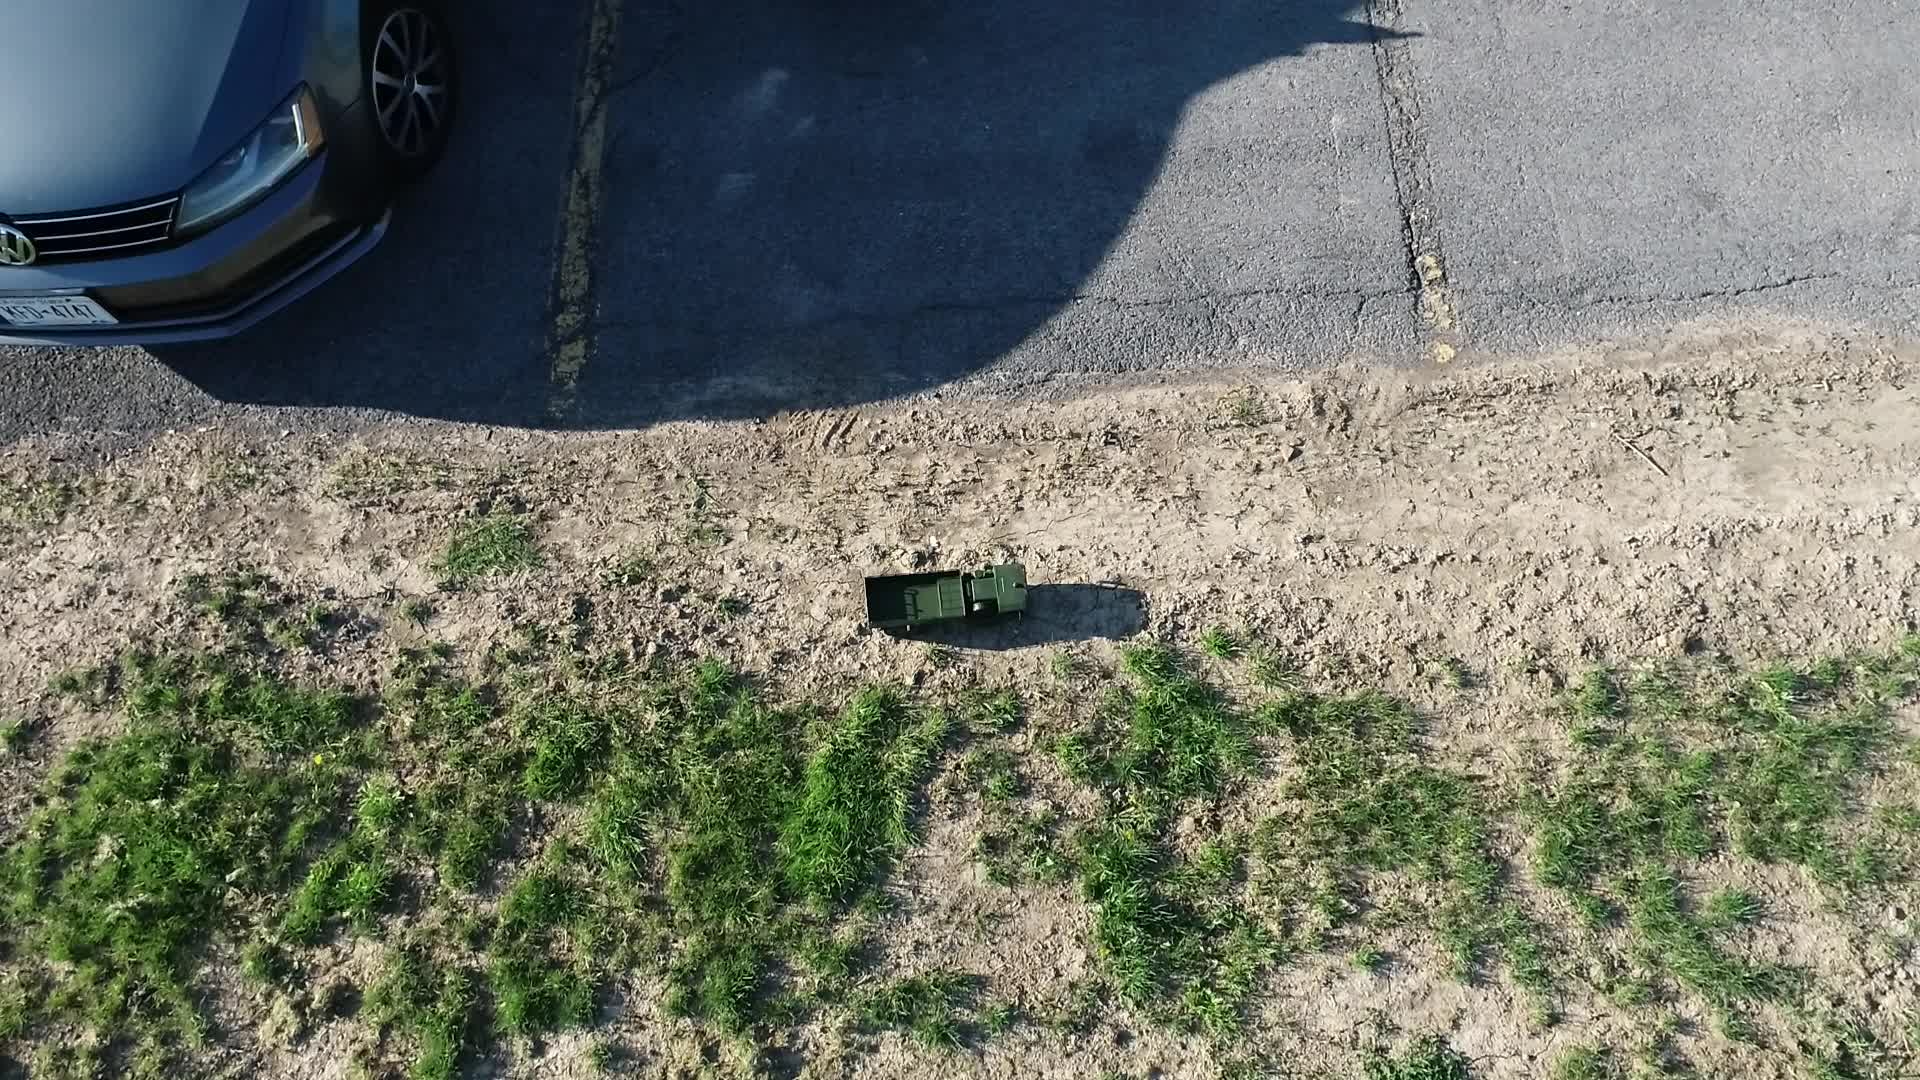transporter9: (860, 556, 1034, 633)
